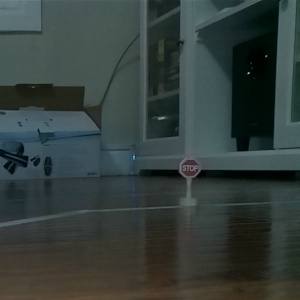stop sign: (174, 156, 202, 208)
